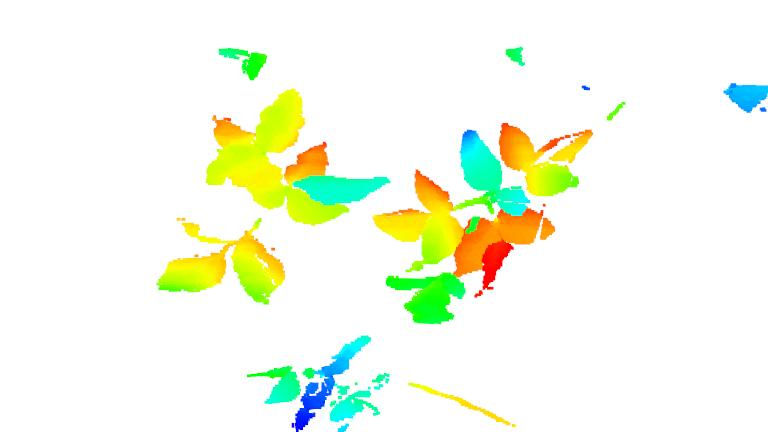mungbean: (152, 86, 387, 306), (369, 123, 594, 323), (240, 315, 392, 432)
